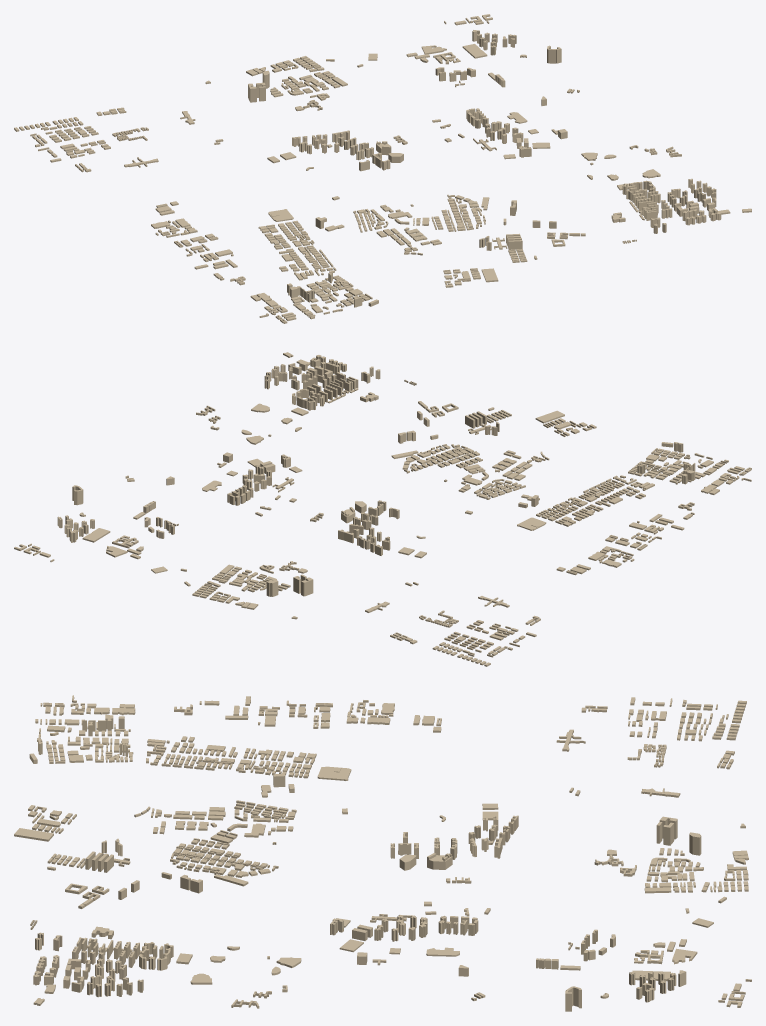
File: overview-estimated--6_5.glb
The picture shows the model from 3 angles, top to bottom: view 1: azimuth 30°, elevation 25°; view 2: azimuth 150°, elevation 25°; view 3: azimuth 270°, elevation 25°; orthographic projection. The views are drawn at different scales.
Size of the model in its own units: 4126 by 112 by 4091.
